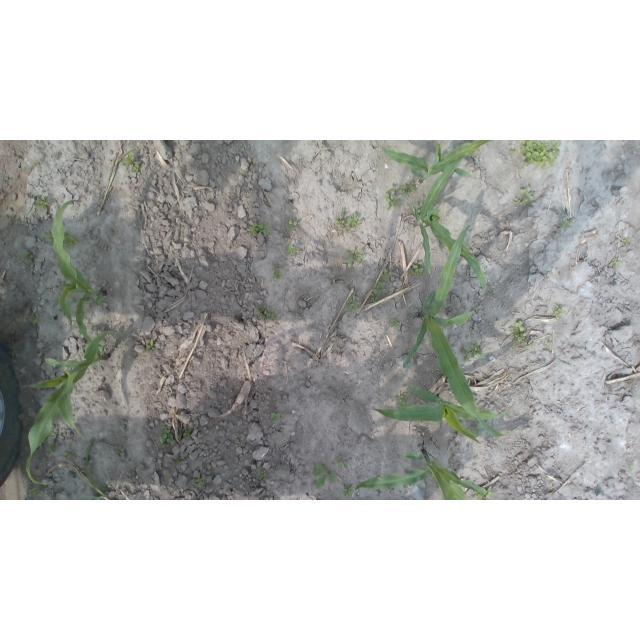Maize: (404, 225, 521, 440), (21, 331, 124, 486), (413, 157, 488, 294), (50, 200, 110, 357), (372, 384, 516, 447), (354, 448, 487, 500), (374, 140, 490, 184)
Weeds: (520, 140, 563, 170), (509, 321, 534, 349), (311, 464, 337, 489), (335, 208, 362, 232), (45, 231, 78, 247), (513, 186, 534, 206), (346, 248, 365, 268), (461, 345, 483, 362), (390, 182, 418, 195), (121, 153, 139, 172), (255, 305, 277, 320), (250, 223, 271, 238), (385, 192, 402, 210), (395, 394, 414, 409), (475, 487, 494, 500), (408, 262, 424, 277), (21, 251, 36, 266), (557, 214, 571, 228), (160, 429, 174, 443), (344, 299, 360, 311), (554, 304, 567, 318), (35, 196, 49, 209), (23, 316, 39, 327), (286, 220, 299, 233), (373, 281, 385, 295), (29, 487, 44, 498), (145, 338, 155, 354), (336, 456, 348, 469), (379, 269, 393, 280), (273, 265, 283, 280), (342, 485, 354, 497), (610, 259, 621, 270), (46, 443, 57, 454), (286, 245, 299, 254), (389, 318, 399, 328), (271, 413, 282, 422), (257, 471, 267, 480), (182, 427, 191, 437), (64, 450, 72, 461), (623, 237, 633, 245), (196, 475, 203, 486), (372, 296, 381, 304), (118, 447, 126, 454), (545, 341, 551, 350), (270, 399, 277, 406), (510, 149, 517, 156), (175, 461, 182, 468), (628, 465, 634, 472), (161, 444, 167, 449), (35, 161, 40, 166), (309, 339, 314, 344), (368, 497, 373, 500)
